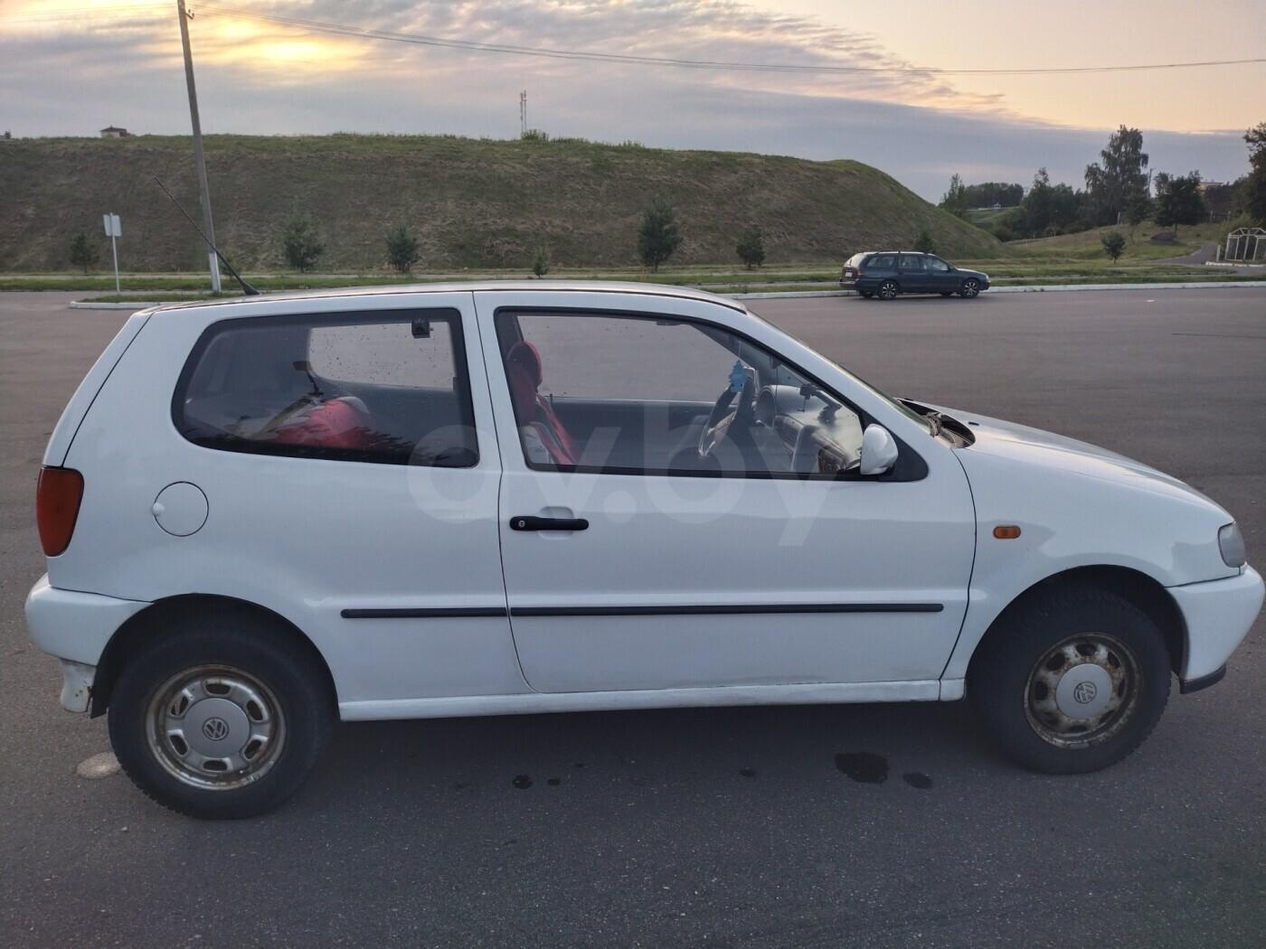Polo_1994-2002: (4, 269, 1265, 830)
